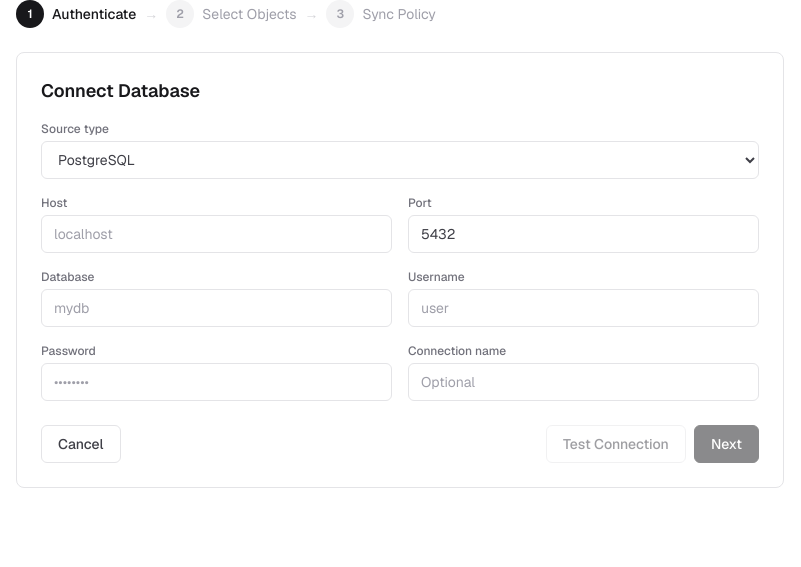
Scenario: ConnectionWizard › shows table list in step 2 after clicking Next
Step 1. Type "host" into the field with placeholder "localhost" → (216, 234), box [41, 215, 392, 253]
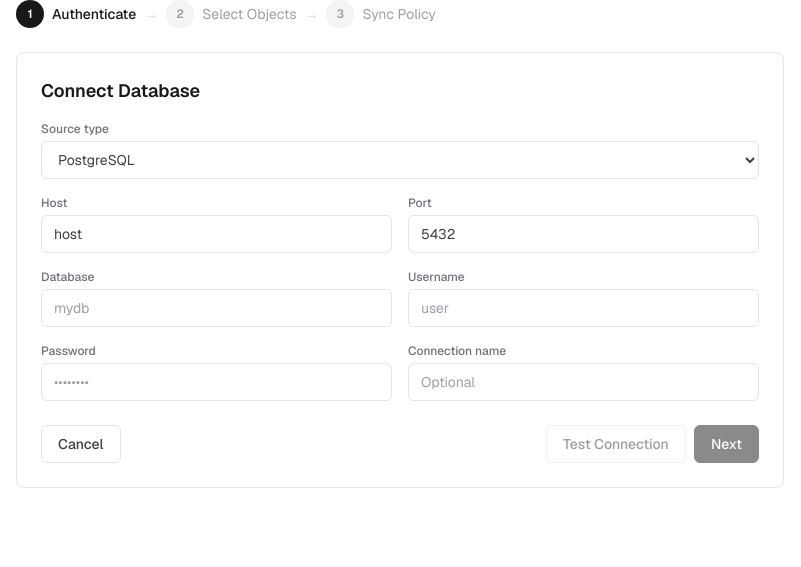
Step 2. Type "db" into the field with placeholder "mydb" → (216, 308), box [41, 289, 392, 327]
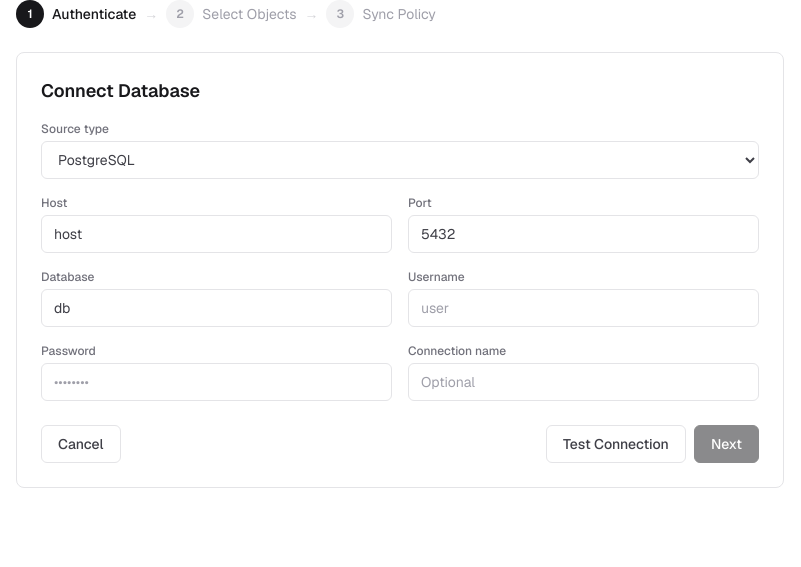
Step 3. Click the button "Test Connection" → (616, 444), box [546, 425, 686, 463]
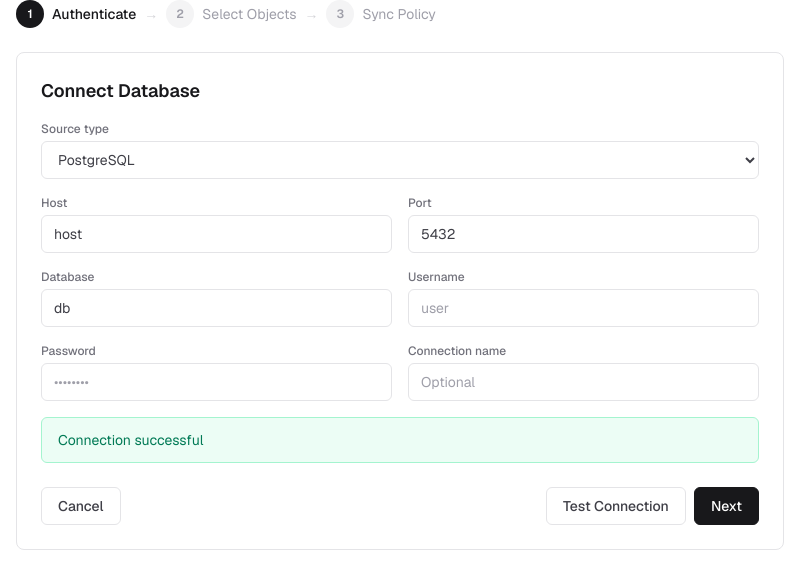
Expected: the text "Connection successful" is shown, [41, 417, 759, 463]
Step 4. Click the button "Next" → (726, 506), box [694, 487, 759, 525]
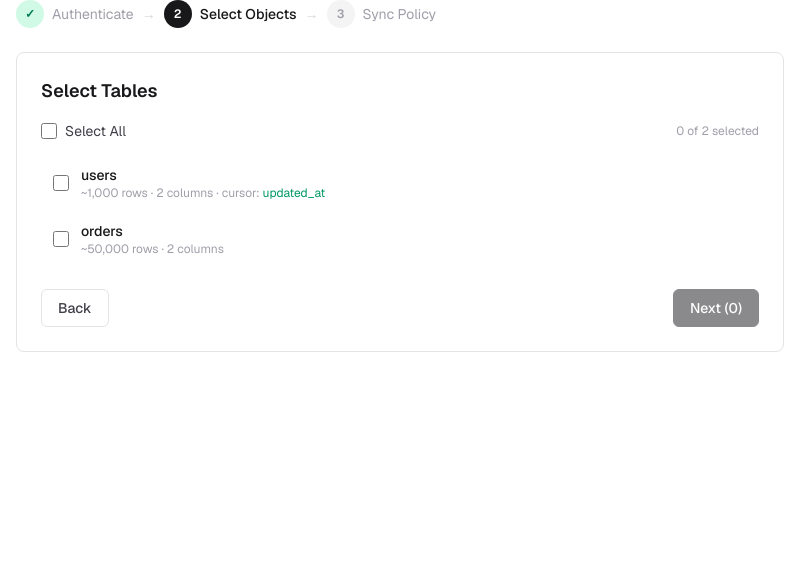
Expected: the text "users" is shown, [81, 166, 117, 184]
Expected: the text "orders" is shown, [81, 222, 123, 240]
